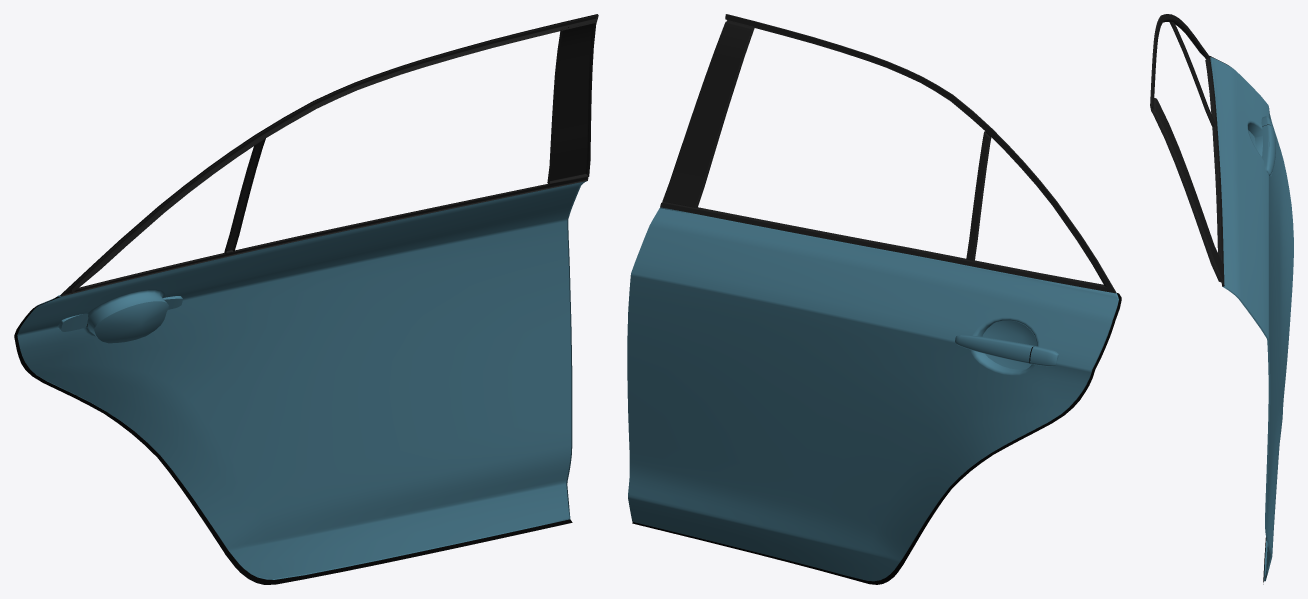
The picture shows the model from 3 angles, left to right: view 1: azimuth 30°, elevation 25°; view 2: azimuth 150°, elevation 25°; view 3: azimuth 270°, elevation 25°; orthographic projection. The views are drawn at different scales.
Visible parts, largest first — view 1: Y175_18_301B_L_Y175_18_301B_L_1_DaS, Y175_18_301B_L_Y175_18_301B_L_2_D, Y175_18_301B_L_3_D_Y175_18_301B_L, Y175_18_301B_L_Y175_18_301B_L_1_DaS_E; view 2: Y175_18_301B_L_Y175_18_301B_L_1_DaS, Y175_18_301B_L_Y175_18_301B_L_2_D, Y175_18_301B_L_3_D_Y175_18_301B_L, Y175_18_301B_L_Y175_18_301B_L_1_DaS_E; view 3: Y175_18_301B_L_Y175_18_301B_L_1_DaS, Y175_18_301B_L_Y175_18_301B_L_2_D, Y175_18_301B_L_Y175_18_301B_L_1_DaS_E.
Part boxes in pixels (x1,y1,x2,y2): Y175_18_301B_L_Y175_18_301B_L_1_DaS: (17, 182, 582, 578); Y175_18_301B_L_Y175_18_301B_L_2_D: (60, 14, 598, 296); Y175_18_301B_L_3_D_Y175_18_301B_L: (14, 296, 572, 584); Y175_18_301B_L_Y175_18_301B_L_1_DaS_E: (35, 181, 586, 579); Y175_18_301B_L_Y175_18_301B_L_1_DaS: (627, 208, 1117, 581); Y175_18_301B_L_Y175_18_301B_L_2_D: (660, 14, 1116, 293); Y175_18_301B_L_3_D_Y175_18_301B_L: (632, 293, 1121, 584); Y175_18_301B_L_Y175_18_301B_L_1_DaS_E: (660, 207, 1118, 572); Y175_18_301B_L_Y175_18_301B_L_1_DaS: (1211, 57, 1293, 573); Y175_18_301B_L_Y175_18_301B_L_2_D: (1150, 14, 1224, 286); Y175_18_301B_L_Y175_18_301B_L_1_DaS_E: (1210, 57, 1273, 581).
Size of the model in its own units: 118 by 114 by 32.25.
